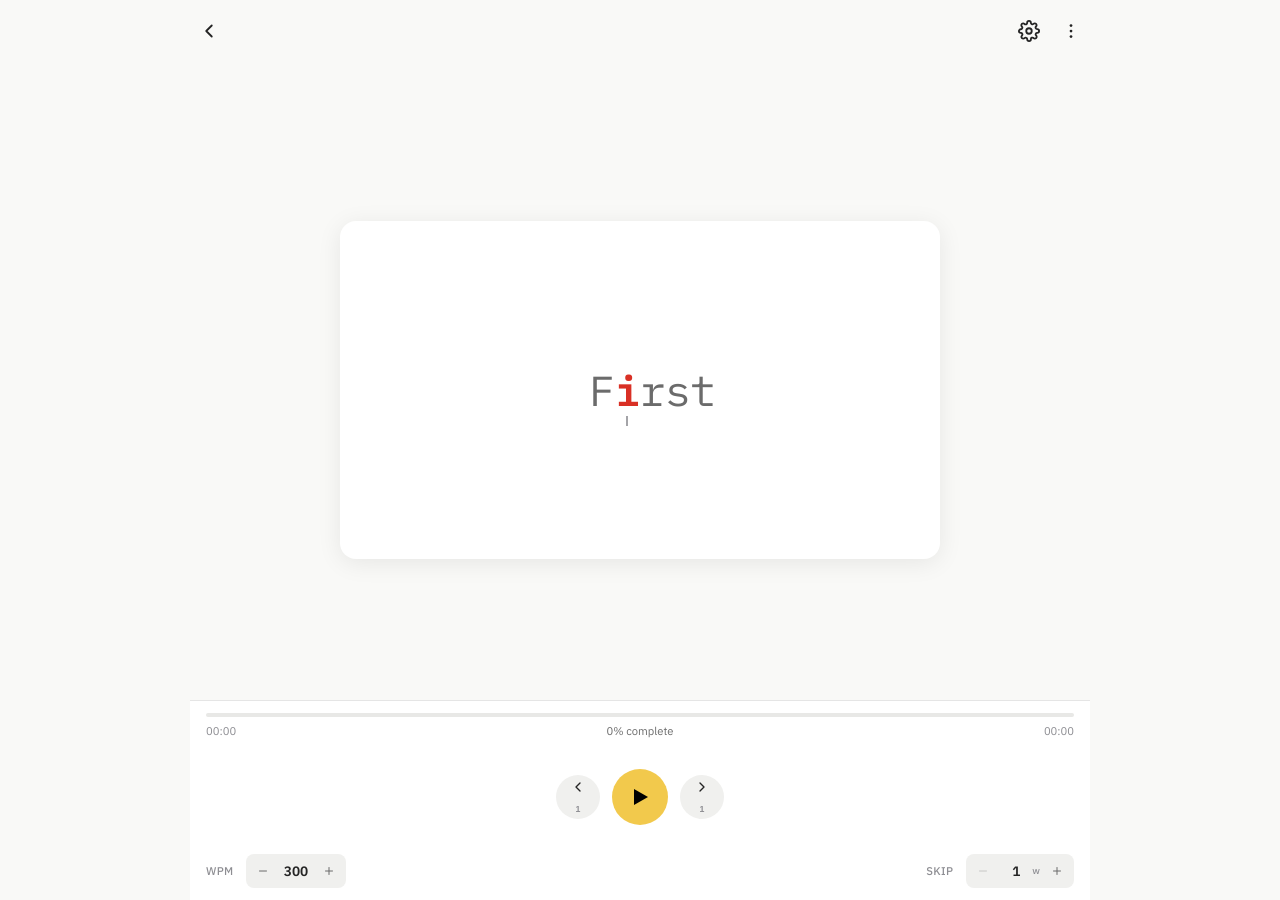
RSVPPlayer › word navigation › skips words with skip buttons
This screenshot has width=1280, height=900.
Expected: the element named "Current word: First" is shown, [363,368,917,412]
Step 1. Click the button named "Skip forward" → (702, 797), box [680,775,724,819]
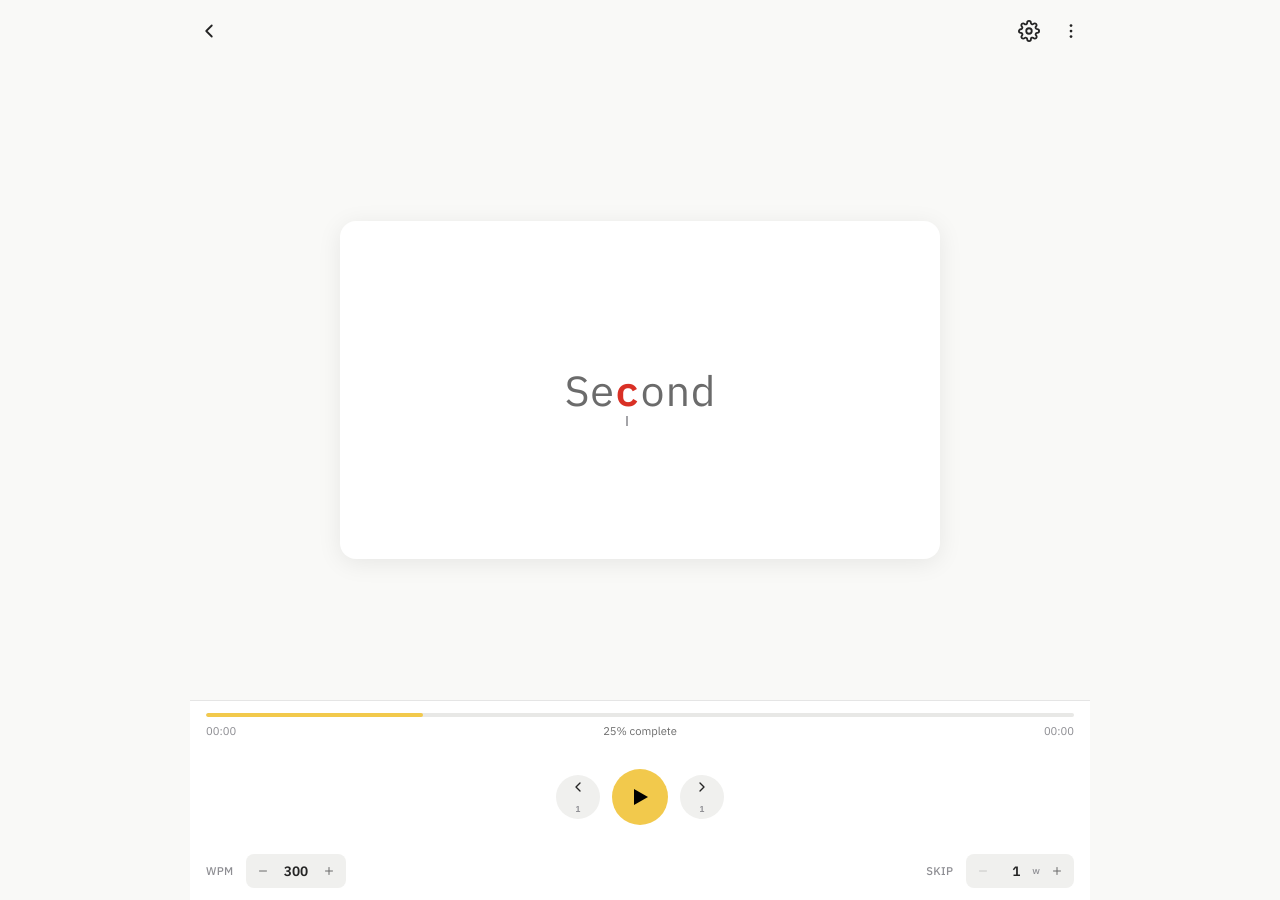
Expected: the element named "Current word: Second" is shown, [363,368,917,412]
